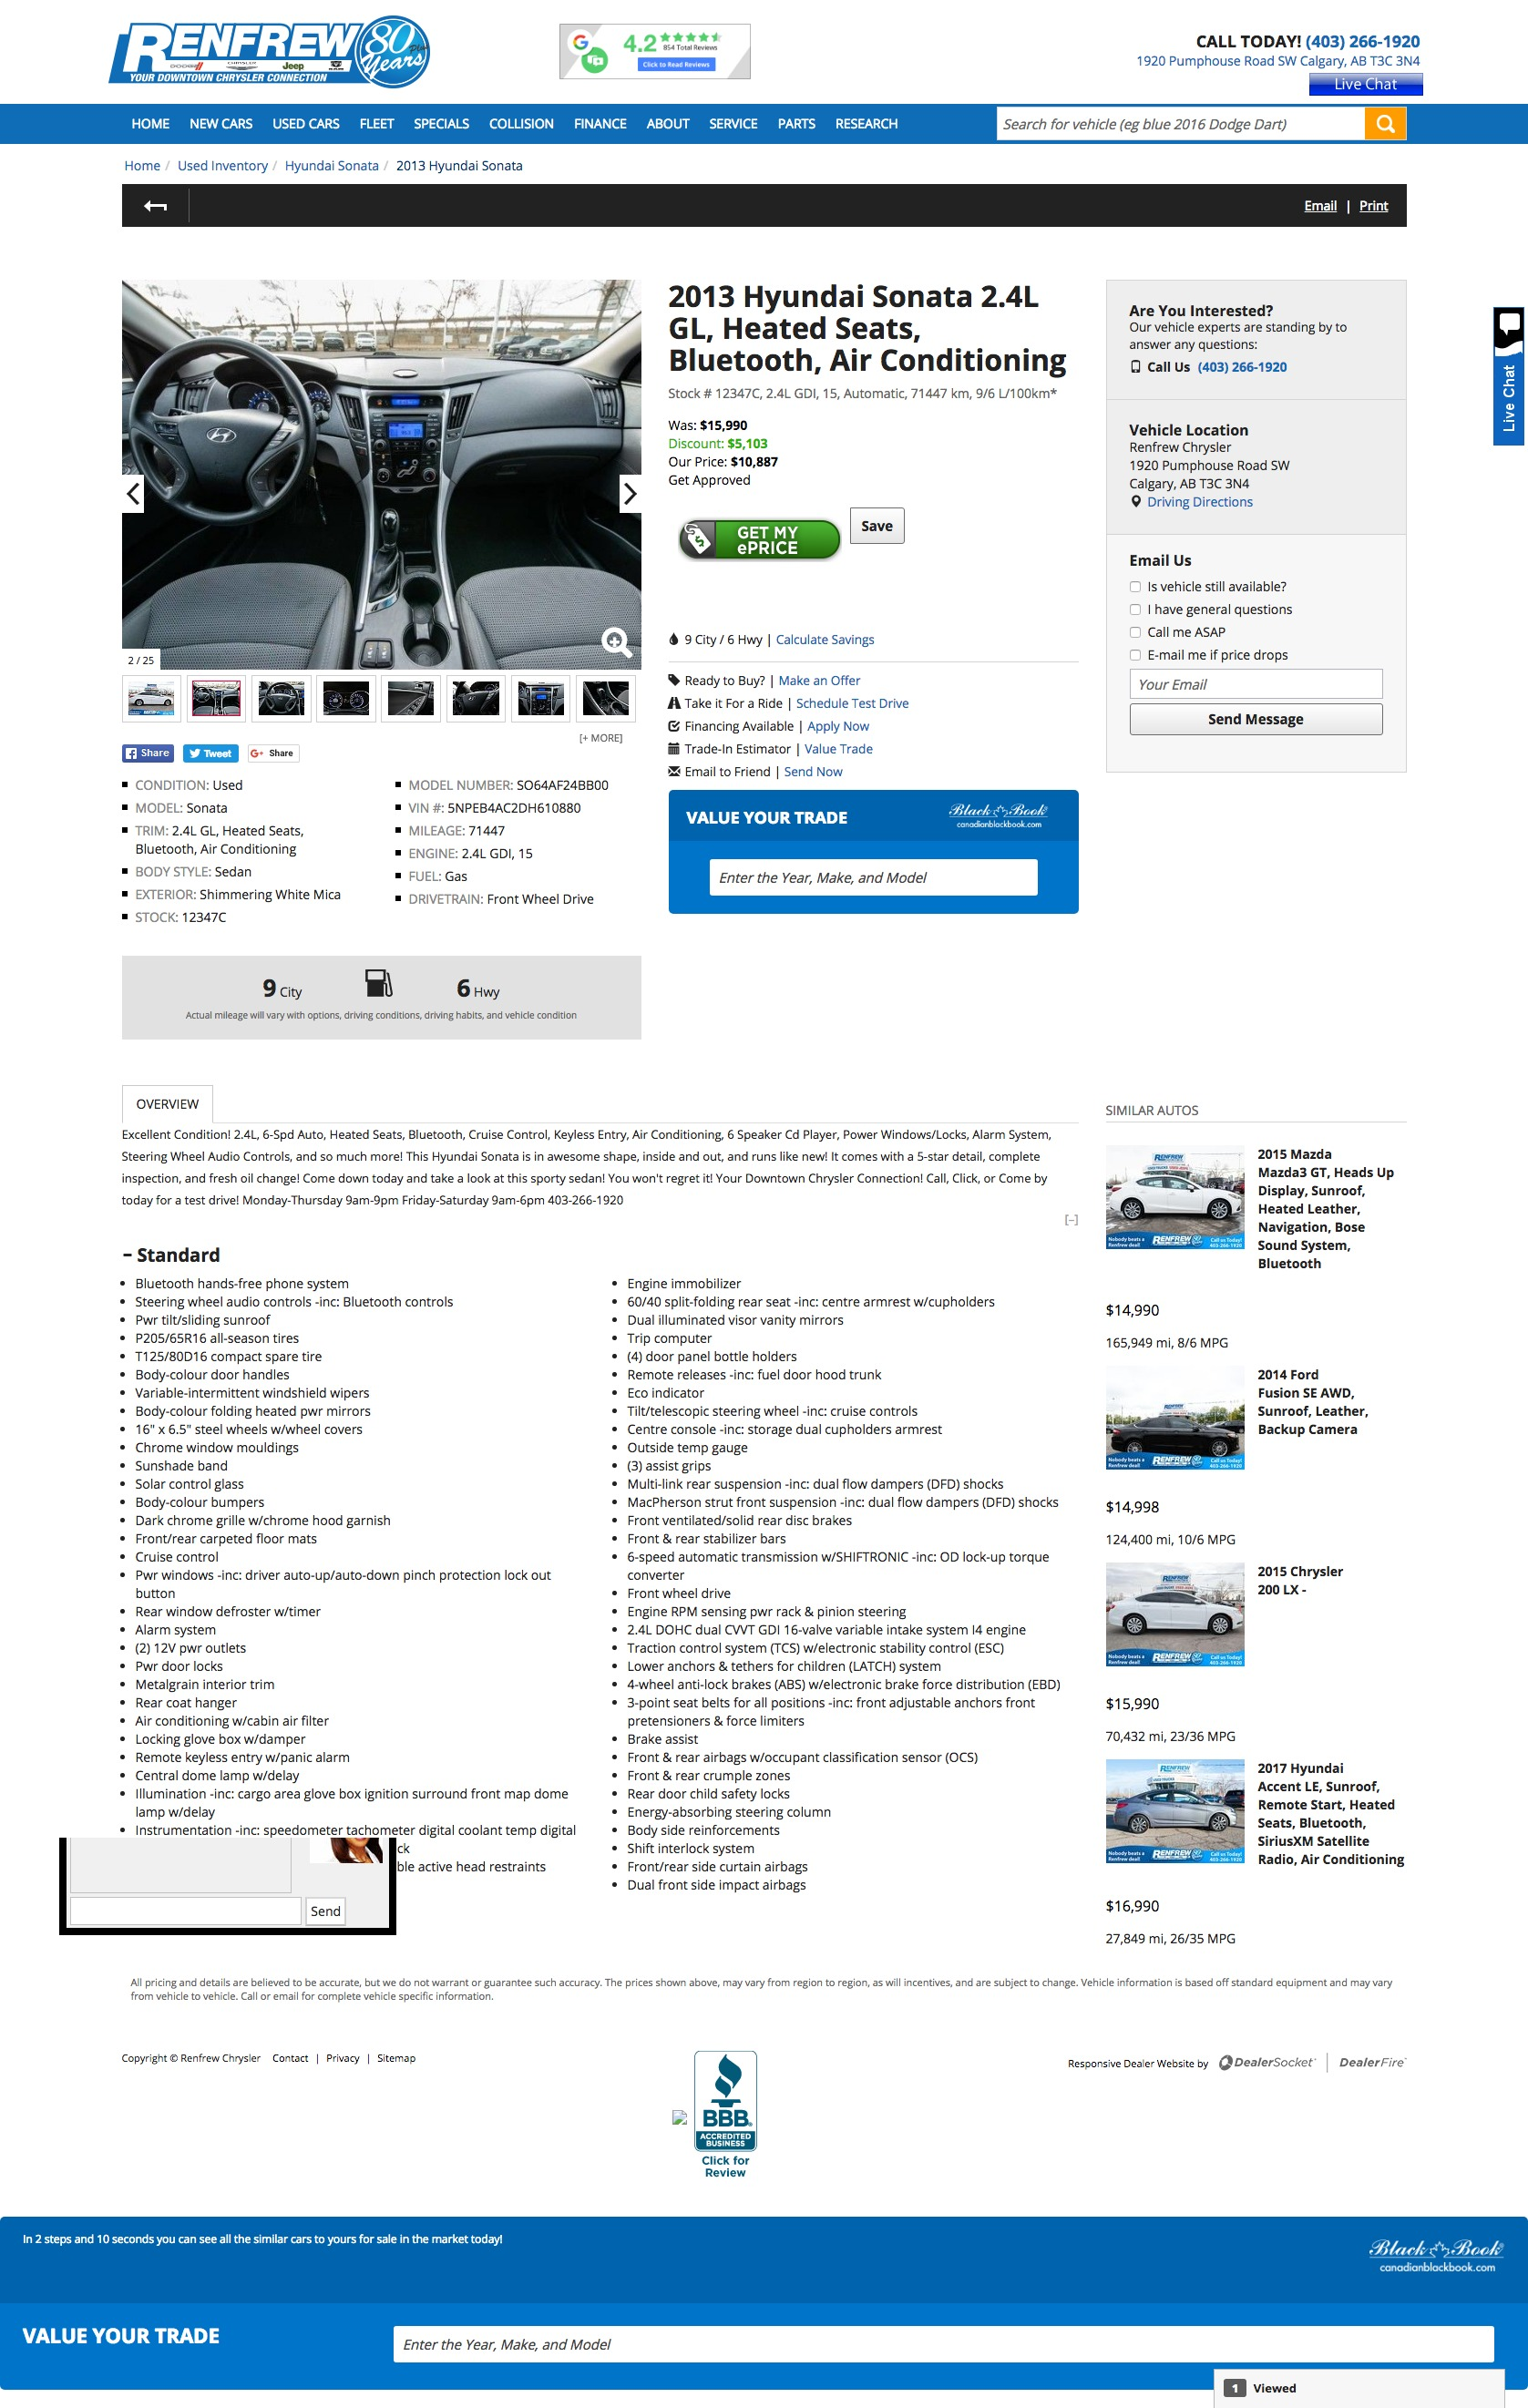car: (619, 472, 647, 516)
